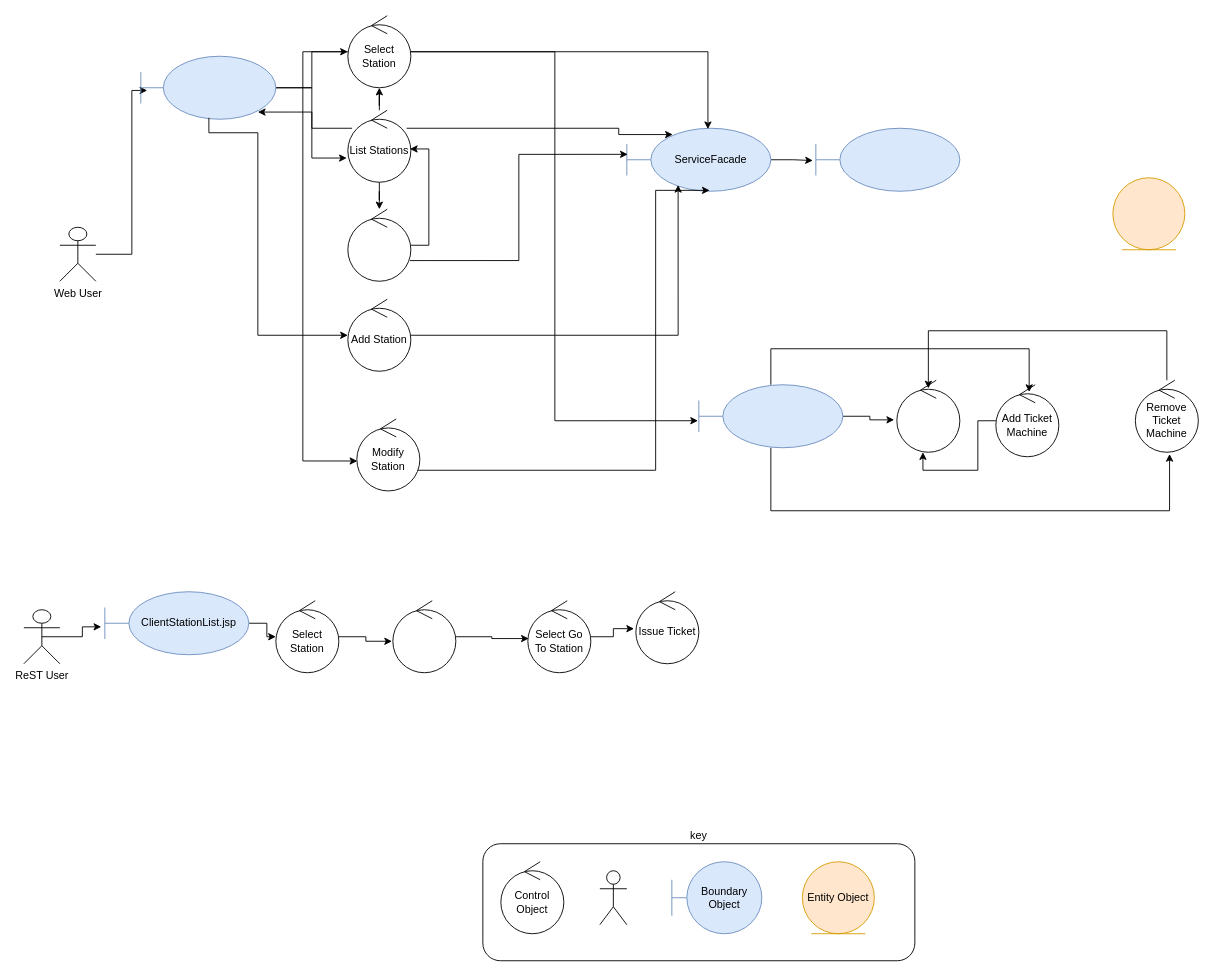
Image size: 1214x977. Some labels were removed from this diagram. The shapes that lost their labels are listed below. From the top down, each one's centre as x and y in pixels, then its label:
point 208,87: StationList.jsp
point 887,159: StationDAO
point 1148,213: Station
point 379,244: delete Station
point 770,416: Station.jsp
point 928,415: Show Ticket Machine
point 424,636: Select Ticket Machine
point 613,897: Actor
